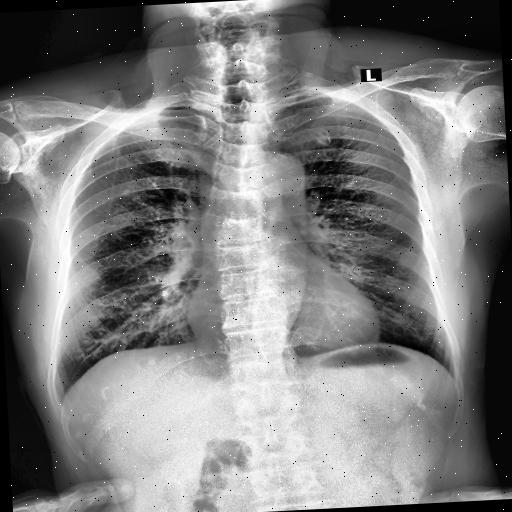0- Aortic enlargement: (246, 149, 308, 239), (256, 150, 308, 222), (250, 148, 306, 200)
